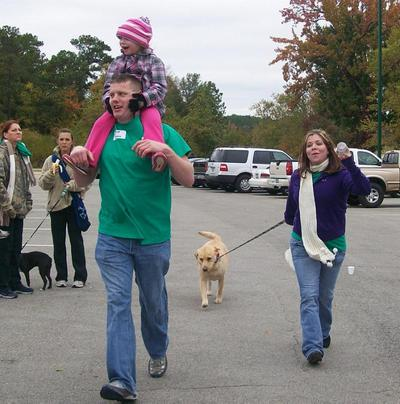person: (285, 130, 373, 365)
